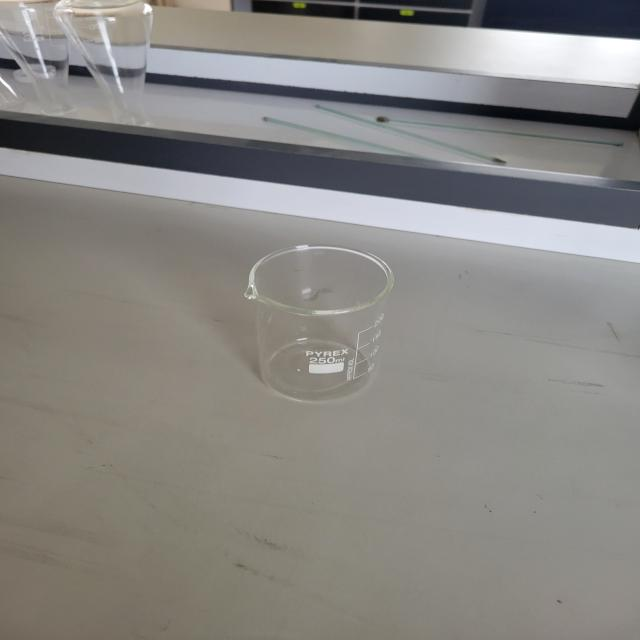Beaker: (236, 237, 411, 409)
